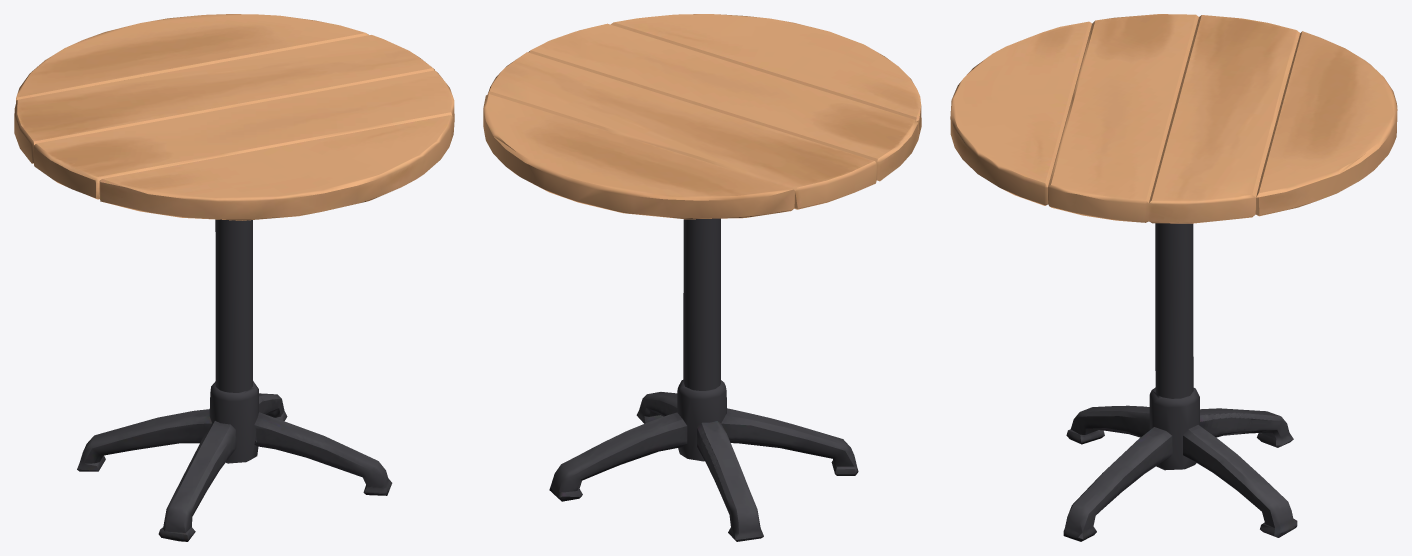
The model's file is cafe_table.glb.
3 renders of one model, left to right at view 1: azimuth 30°, elevation 25°; view 2: azimuth 150°, elevation 25°; view 3: azimuth 270°, elevation 25°, orthographic. The views are drawn at different scales.
Parts seen in each view (by area): view 1: body; view 2: body; view 3: body.
Boxes of the visible parts, x1,y1,x2,y2 form: body: (14,14,454,541); body: (483,14,921,541); body: (950,14,1397,541).
Bounding box in the file's own units: 0.8001 × 0.7498 × 0.7987.
1 material, 1 textured.
